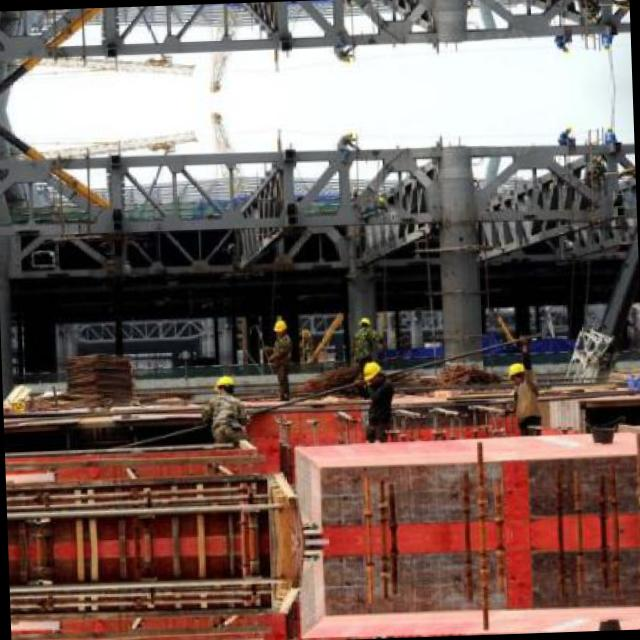helmet: (504, 356, 528, 394), (210, 372, 234, 402), (364, 356, 385, 388), (271, 316, 286, 338), (356, 314, 370, 336)
